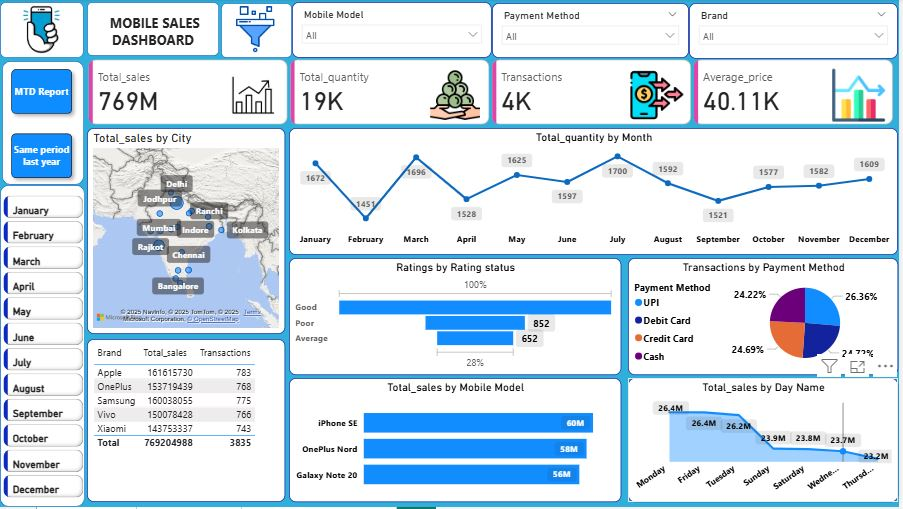

The dashboard page shown, as its layout file describes it:
{"tool":"powerbi","page":{"name":"Dashboard","canvas":[1280,720],"ordinal":0},"visuals":[{"type":"shape","box":[7.1,4.3,119.1,79.4],"z":0},{"type":"shape","box":[9.9,87.9,116.2,175.7],"z":1000},{"type":"shape","box":[7.1,263.6,120.5,456.4],"z":2000},{"type":"advancedSlicerVisual","fields":{"Values":["Custom_Calender.Date.Variation.Date Hierarchy.Month"]},"box":[7.1,273.5,123.3,446.5],"z":3000},{"type":"cardVisual","fields":{"Data":["Sales_Data.Total_sales","Sales_Data.Total_quantity","Sales_Data.Transactions","Sales_Data.Average_price"]},"box":[127.6,80.8,1152.3,102],"z":4000},{"type":"slicer","fields":{"Values":["Sales_Data.Mobile Model"]},"box":[420.9,4.3,283.5,79.4],"z":5000},{"type":"slicer","fields":{"Values":["Sales_Data.Payment Method"]},"box":[704.4,5.7,279.2,78],"z":6000},{"type":"slicer","fields":{"Values":["Sales_Data.Brand"]},"box":[983.6,5.7,296.2,79.4],"z":7000},{"type":"shape","box":[320.3,5.7,100.6,78],"z":8000},{"type":"image","box":[320.3,4.3,96.4,76.5],"z":9000},{"type":"shape","box":[130.4,4.3,187.1,76.5],"z":10000},{"type":"textbox","box":[147.4,15.6,153.1,60.9],"z":11000},{"type":"map","fields":{"Category":["Sales_Data.City"],"Size":["Sales_Data.Total_sales"]},"box":[130.4,182.8,280.6,292],"z":12000},{"type":"lineChart","fields":{"Category":["Custom_Calender.Date.Variation.Date Hierarchy.Month"],"Y":["Sales_Data.Total_quantity"]},"box":[416.7,182.8,863.1,180],"z":13000},{"type":"funnel","title":"Ratings by Rating status","fields":{"Y":["CountNonNull(Sales_Data.Customer Ratings)"],"Category":["Sales_Data.Rating status"]},"box":[416.7,367.1,470.6,165.8],"z":14000},{"type":"pieChart","fields":{"Y":["Sales_Data.Transactions"],"Category":["Sales_Data.Payment Method"]},"box":[897.2,367.1,382.7,165.8],"z":15000},{"type":"clusteredBarChart","fields":{"Y":["Sales_Data.Total_sales"],"Category":["Sales_Data.Mobile Model"]},"box":[416.7,537.2,470.6,175.7],"z":16000},{"type":"areaChart","fields":{"Category":["Custom_Calender.Day Name"],"Y":["Sales_Data.Total_sales"]},"box":[897.2,537.2,382.7,175.7],"z":17000},{"type":"tableEx","fields":{"Values":["Sales_Data.Brand","Sales_Data.Total_sales","Sales_Data.Transactions"]},"box":[130.4,481.9,280.6,231],"z":18000},{"type":"pageNavigator","box":[14.2,90.7,104.9,172.9],"z":19000},{"type":"image","box":[18.4,0,96.4,83.6],"z":20000}]}

Visuals, with their boxes in screenshot pixels (x1, y1, x2, y2), scaled from the page's 1280x720 canvas onto the 903x509 screenshot:
shape: bbox=(5, 3, 89, 59)
shape: bbox=(7, 62, 89, 186)
shape: bbox=(5, 186, 90, 508)
advancedSlicerVisual - Custom_Calender.Date.Variation.Date Hierarchy.Month: bbox=(5, 193, 92, 508)
cardVisual - Sales_Data.Total_sales x Sales_Data.Total_quantity: bbox=(90, 57, 902, 129)
slicer - Sales_Data.Mobile Model: bbox=(297, 3, 497, 59)
slicer - Sales_Data.Payment Method: bbox=(497, 4, 694, 59)
slicer - Sales_Data.Brand: bbox=(694, 4, 902, 60)
shape: bbox=(226, 4, 297, 59)
image: bbox=(226, 3, 294, 57)
shape: bbox=(92, 3, 224, 57)
textbox: bbox=(104, 11, 212, 54)
map - Sales_Data.City x Sales_Data.Total_sales: bbox=(92, 129, 290, 336)
lineChart - Custom_Calender.Date.Variation.Date Hierarchy.Month x Sales_Data.Total_quantity: bbox=(294, 129, 902, 256)
"Ratings by Rating status" funnel: bbox=(294, 260, 626, 377)
pieChart - Sales_Data.Transactions x Sales_Data.Payment Method: bbox=(633, 260, 902, 377)
clusteredBarChart - Sales_Data.Total_sales x Sales_Data.Mobile Model: bbox=(294, 380, 626, 504)
areaChart - Custom_Calender.Day Name x Sales_Data.Total_sales: bbox=(633, 380, 902, 504)
tableEx - Sales_Data.Brand x Sales_Data.Total_sales: bbox=(92, 341, 290, 504)
pageNavigator: bbox=(10, 64, 84, 186)
image: bbox=(13, 0, 81, 59)
